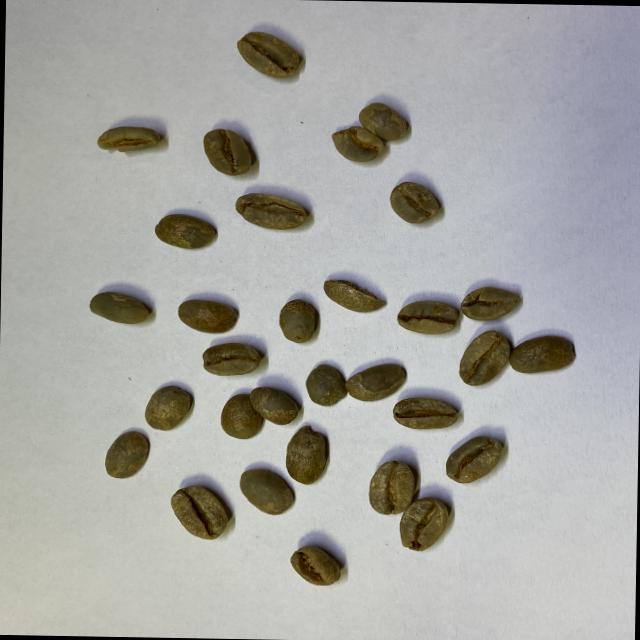bad: (444, 434, 508, 484), (398, 497, 456, 552), (233, 190, 310, 230), (461, 286, 526, 324), (322, 274, 386, 312), (288, 543, 342, 587), (330, 124, 384, 164), (95, 124, 159, 152)
good: (168, 482, 230, 540), (232, 30, 301, 78), (458, 330, 512, 387), (367, 460, 418, 518), (509, 334, 577, 376), (284, 424, 329, 486), (239, 468, 295, 516), (201, 127, 253, 176), (345, 362, 407, 403), (103, 429, 150, 481), (88, 289, 154, 326), (152, 214, 217, 251), (388, 180, 442, 224), (201, 340, 263, 378), (144, 384, 193, 431), (178, 298, 240, 335), (391, 396, 458, 430), (396, 300, 459, 336), (357, 102, 411, 144), (302, 362, 349, 408), (248, 386, 302, 426), (220, 391, 264, 440), (278, 298, 320, 344)
